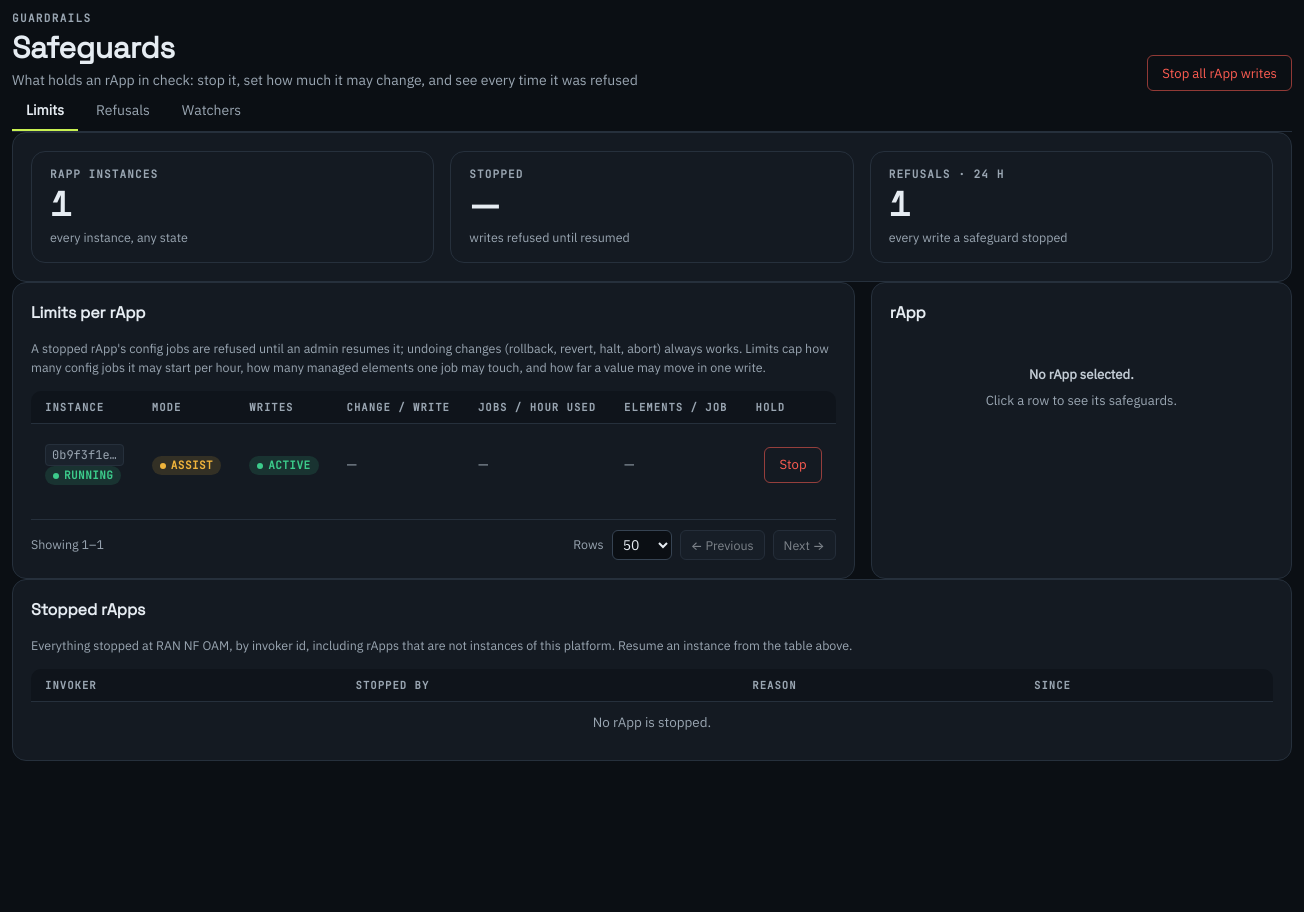
Test: the tabs › shows refusals with a reason badge, paged and bounded to the last 7 days by default
Click the tab "Refusals": (123, 111) [82, 91, 164, 131]
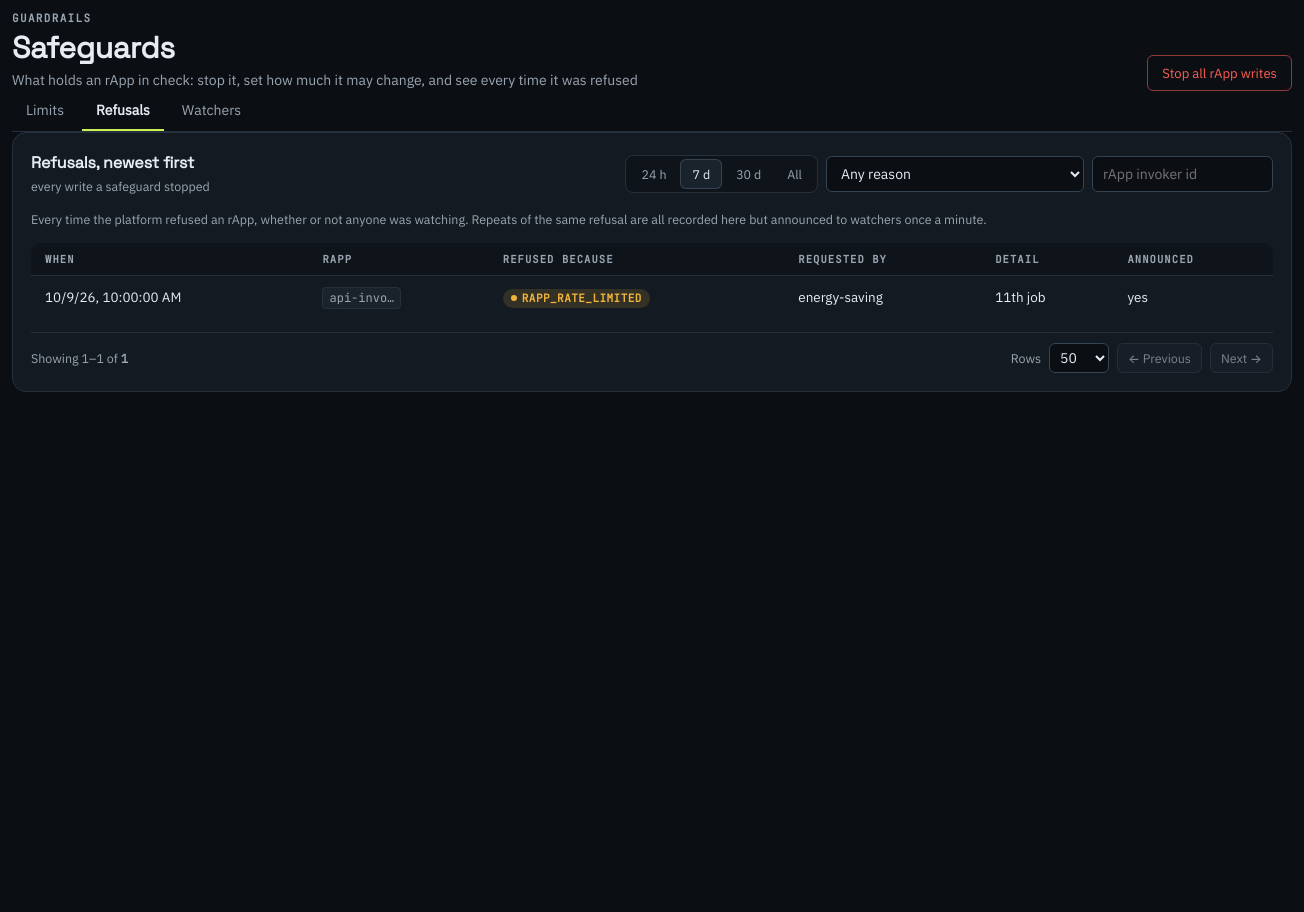
Expected: the text with class "badge" reads "RAPP_RATE_LIMITED", [522, 291, 642, 305]
